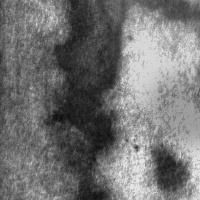patches: (52, 1, 122, 168), (109, 0, 200, 126), (146, 74, 200, 146), (99, 0, 163, 39)
